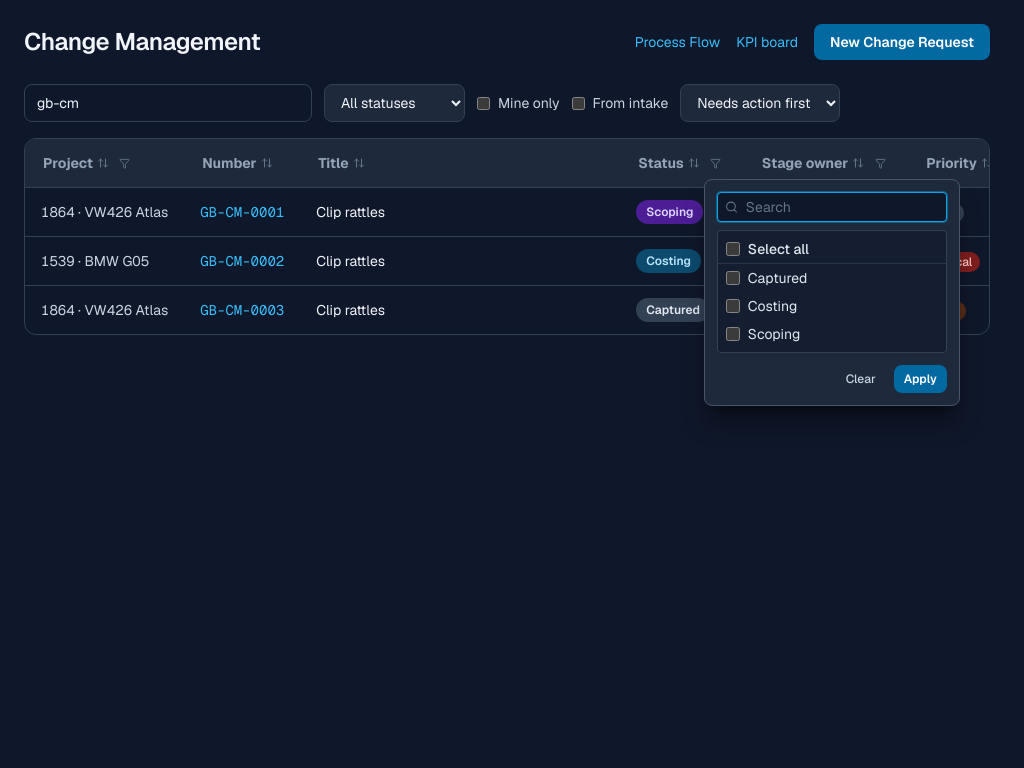
Test: ChangesPage column sort and filter › filters by the shown status label and project, keeps it in the URL, clears
Earlier steps of the test are not shown.
Later steps or results of the test are not shown.
Click the checkbox labelled "Costing" at (733, 306), box top-left (726, 299), bottom-right (740, 313)
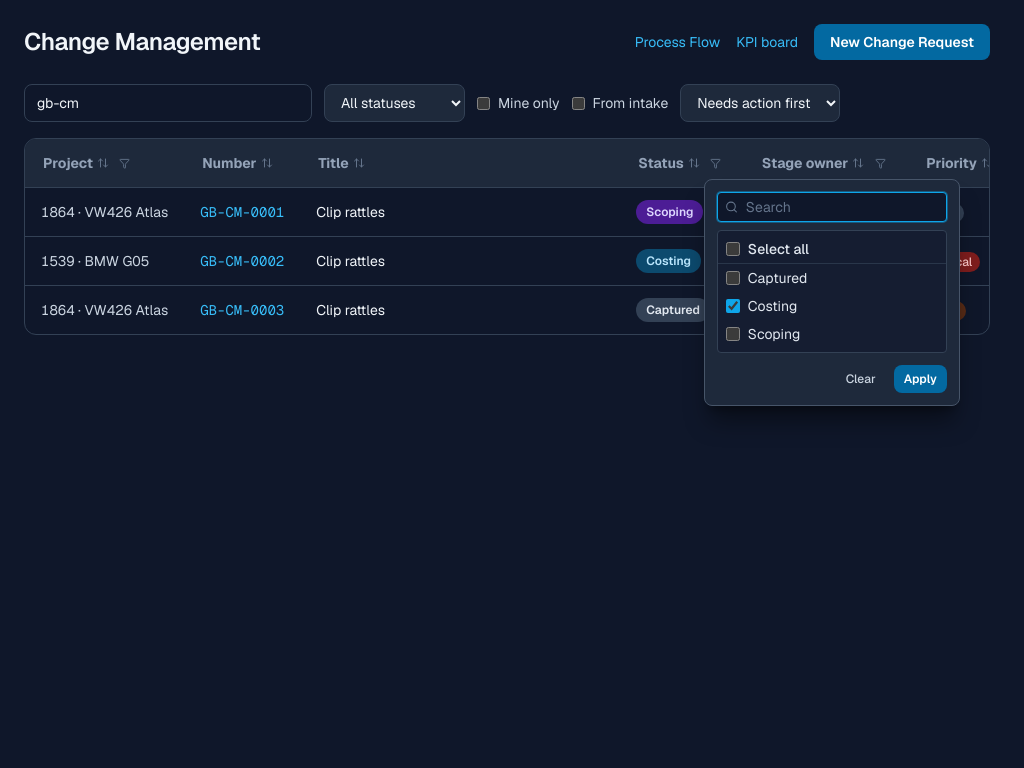
Click the checkbox labelled "Scoping" at (733, 334), box top-left (726, 327), bottom-right (740, 341)
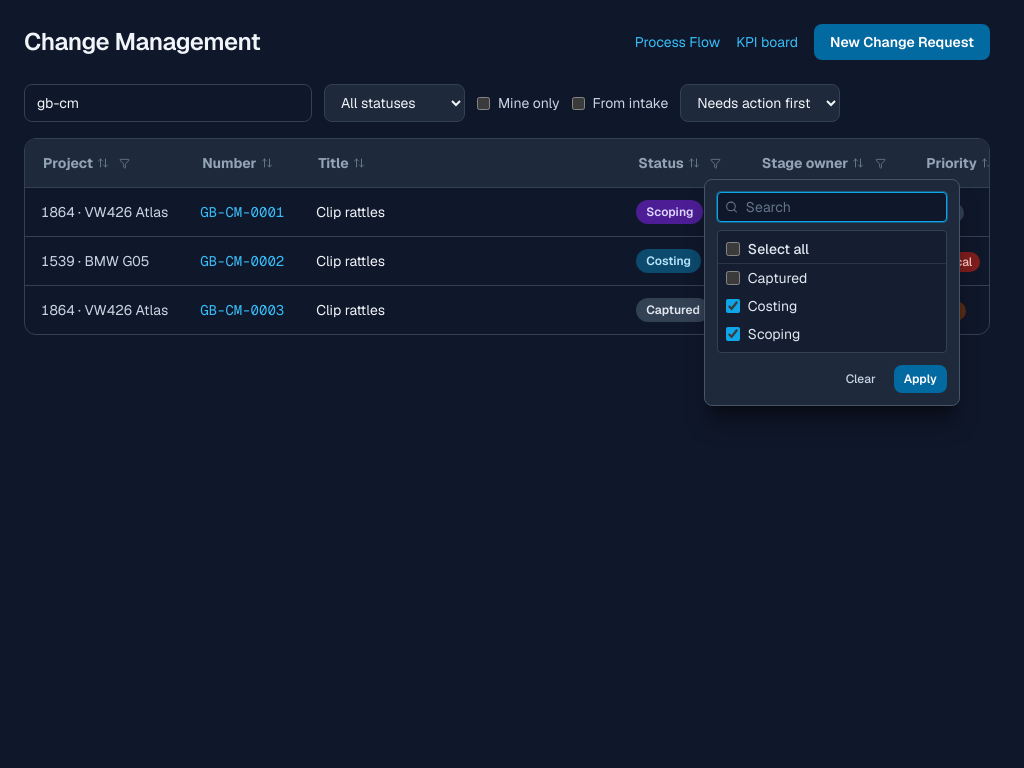
Click the button "Apply" at (920, 379), box top-left (894, 365), bottom-right (947, 393)
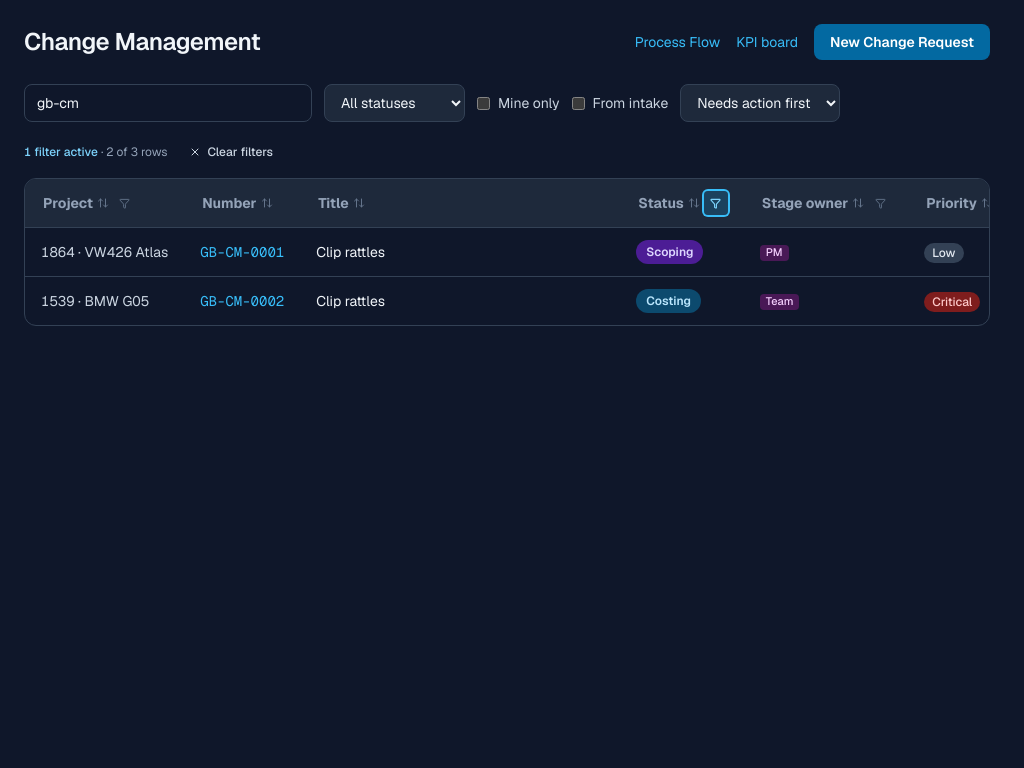
Now the element with test id "table-filter-bar" shows "2 of 3 rows", box top-left (24, 138), bottom-right (283, 166)
Click the button named "Filter Project" at (125, 203), box top-left (113, 191), bottom-right (137, 215)
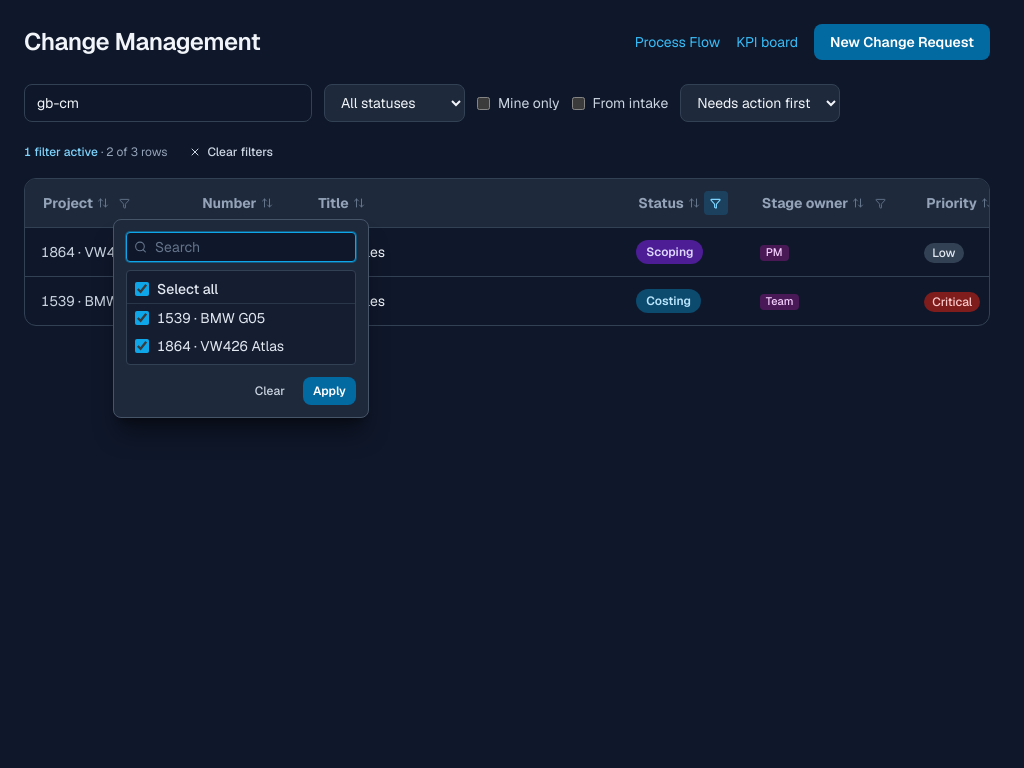
only the values the status filter leaves: both projects are still there
Type "bmw" into the search field with placeholder "Search" at (241, 247), box top-left (126, 232), bottom-right (356, 262)
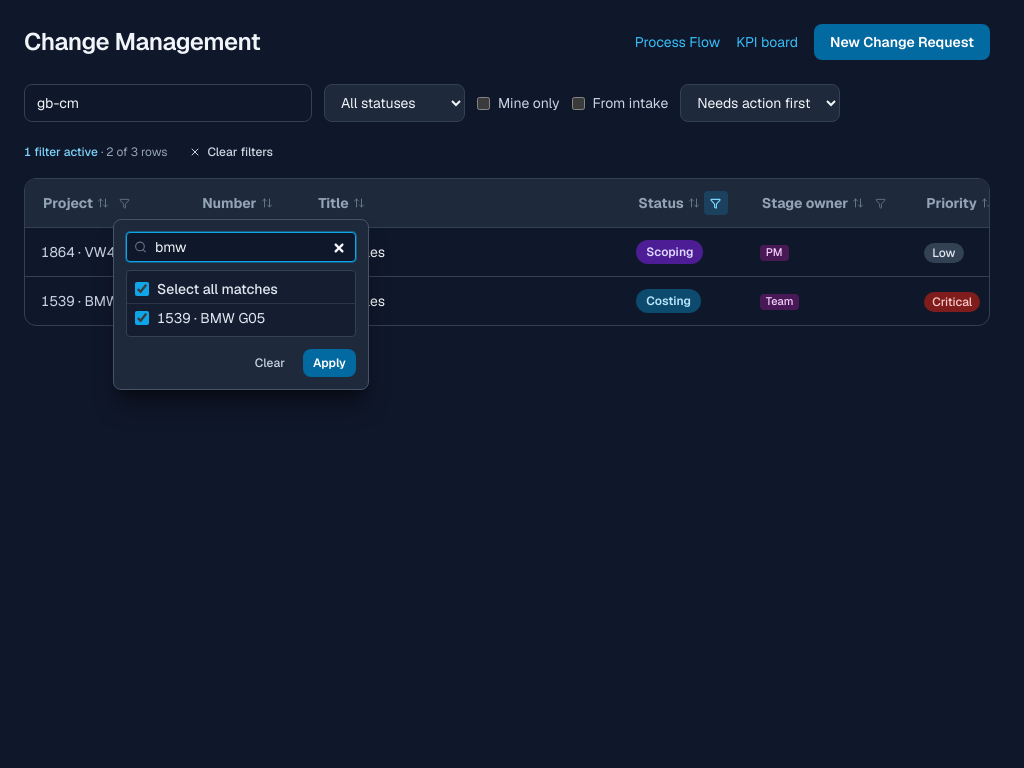
Click the button "Apply" at (329, 363), box top-left (303, 349), bottom-right (356, 377)
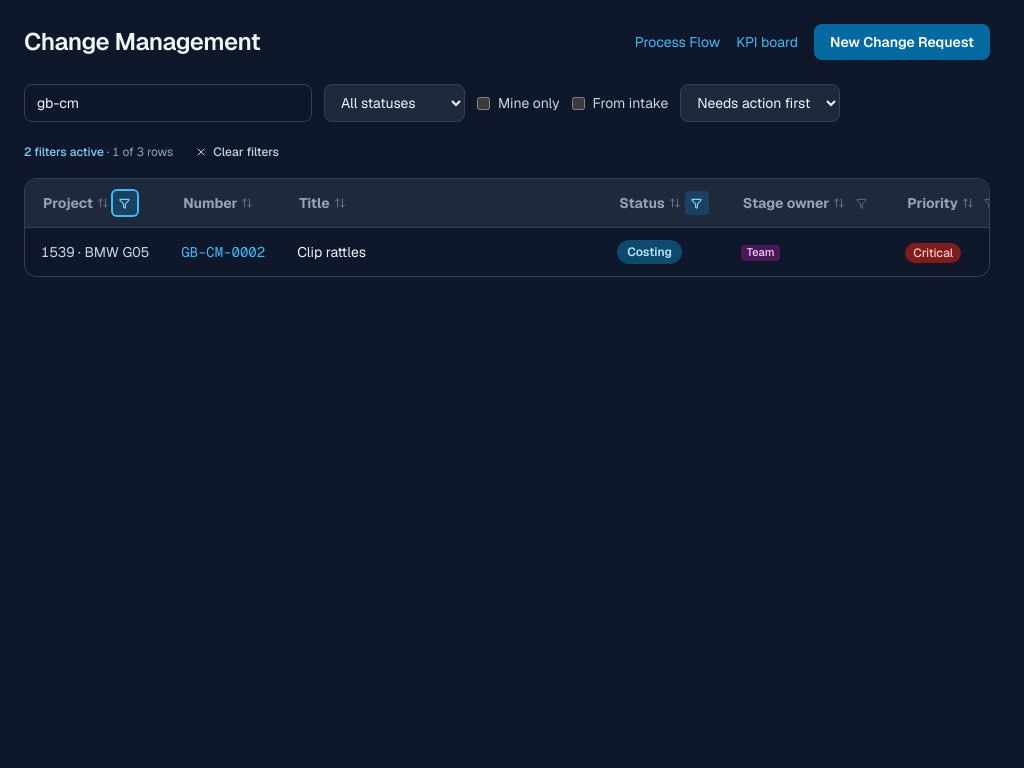
Now the element with test id "table-filter-bar" shows "2 filters active", box top-left (24, 138), bottom-right (289, 166)
